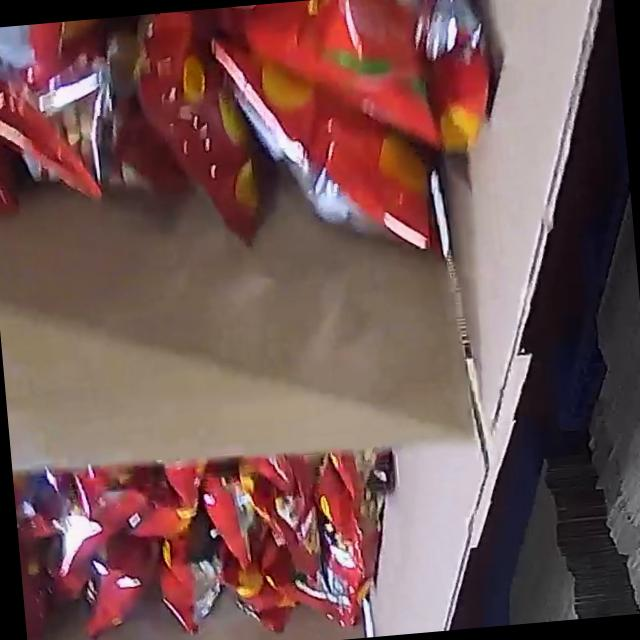masala: (0, 0, 519, 288), (12, 438, 398, 640)
